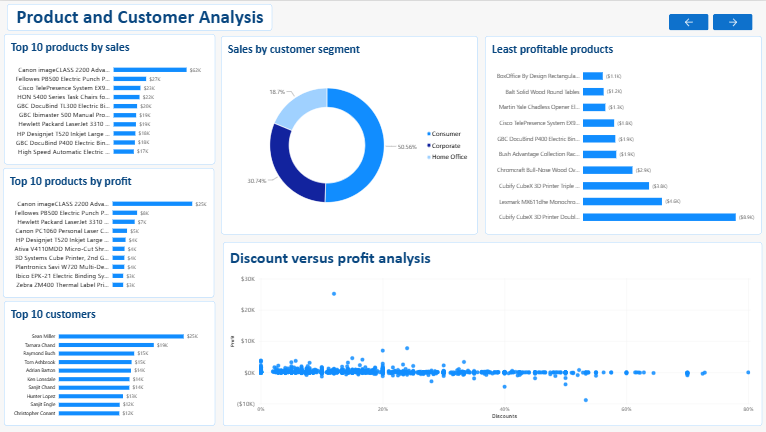

Layout of this report page (visuals, bound fields, positions):
{"tool":"powerbi","page":{"name":"Product and Customer Analysis","canvas":[1920,1080],"ordinal":1},"visuals":[{"type":"clusteredBarChart","title":"Top 10 products by sales","fields":{"Category":["sales.product_name"],"Y":["_Measures.Total Sales"]},"box":[12,82,528,326],"z":0},{"type":"clusteredBarChart","title":"Top 10 products by profit","fields":{"Category":["sales.product_name"],"Y":["_Measures.Total Profit"]},"box":[10,418,528,324],"z":1000},{"type":"clusteredBarChart","title":"Top 10 customers","fields":{"Category":["sales.customer_name"],"Y":["_Measures.Total Sales"]},"box":[12,750,528,312],"z":2000},{"type":"scatterChart","title":"Discount versus profit analysis","fields":{"Category":["sales.product_name"],"X":["_Measures.Discount Average"],"Y":["_Measures.Total Profit"]},"box":[560,602,1348,460],"z":3000},{"type":"clusteredBarChart","title":"Least profitable products","fields":{"Category":["sales.product_name"],"Y":["_Measures.Total Profit"]},"box":[1214,88,692,496],"z":4000},{"type":"donutChart","title":"Sales by customer segment","fields":{"Category":["sales.segment"],"Y":["_Measures.Total Sales"]},"box":[556,88,642,496],"z":5000},{"type":"actionButton","box":[1674.9,32.4,99.4,41],"z":5001},{"type":"actionButton","box":[1785,32.4,99.4,41],"z":5002},{"type":"textbox","title":"Product and Customer Analysis","box":[19.4,6.5,663.1,67],"z":5003}]}

Visuals, with their boxes in screenshot pixels (x1, y1, x2, y2), scaled from the page's 1920x1080 canvas onto the 766x432 screenshot:
"Top 10 products by sales" clusteredBarChart: (left=5, top=33, right=215, bottom=163)
"Top 10 products by profit" clusteredBarChart: (left=4, top=167, right=215, bottom=297)
"Top 10 customers" clusteredBarChart: (left=5, top=300, right=215, bottom=425)
"Discount versus profit analysis" scatterChart: (left=223, top=241, right=761, bottom=425)
"Least profitable products" clusteredBarChart: (left=484, top=35, right=760, bottom=234)
"Sales by customer segment" donutChart: (left=222, top=35, right=478, bottom=234)
actionButton: (left=668, top=13, right=708, bottom=29)
actionButton: (left=712, top=13, right=752, bottom=29)
"Product and Customer Analysis" textbox: (left=8, top=3, right=272, bottom=29)
